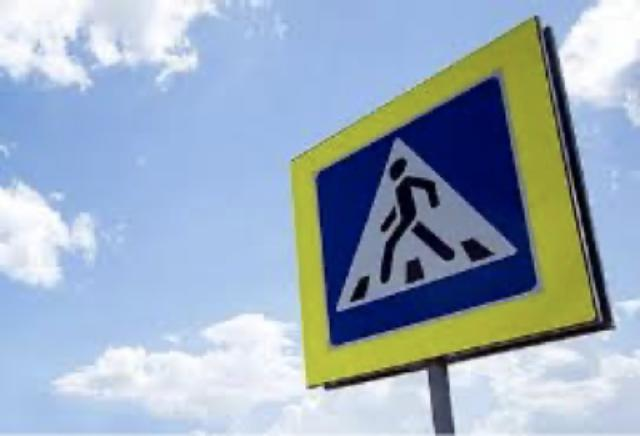crosswalk-sign: (289, 15, 617, 391)
